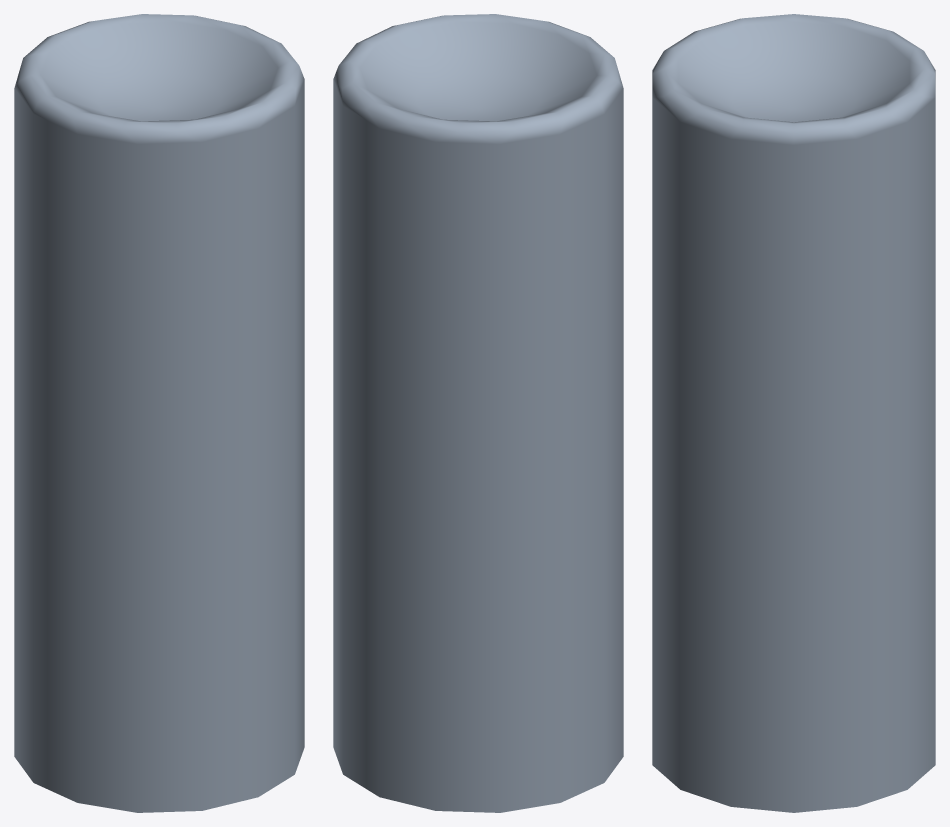
File: weaponpost2.obj
3 renders of one model, left to right at view 1: azimuth 30°, elevation 25°; view 2: azimuth 150°, elevation 25°; view 3: azimuth 270°, elevation 25°, orthographic.
Parts seen in each view (by area): view 1: 1; view 2: 1; view 3: 1.
Boxes of the visible parts, x1=… form: 1: x1=14, y1=14, x2=304, y2=812; 1: x1=333, y1=14, x2=623, y2=812; 1: x1=652, y1=14, x2=935, y2=812.
Bounding box in the file's own units: 15 × 38.89 × 14.62.
